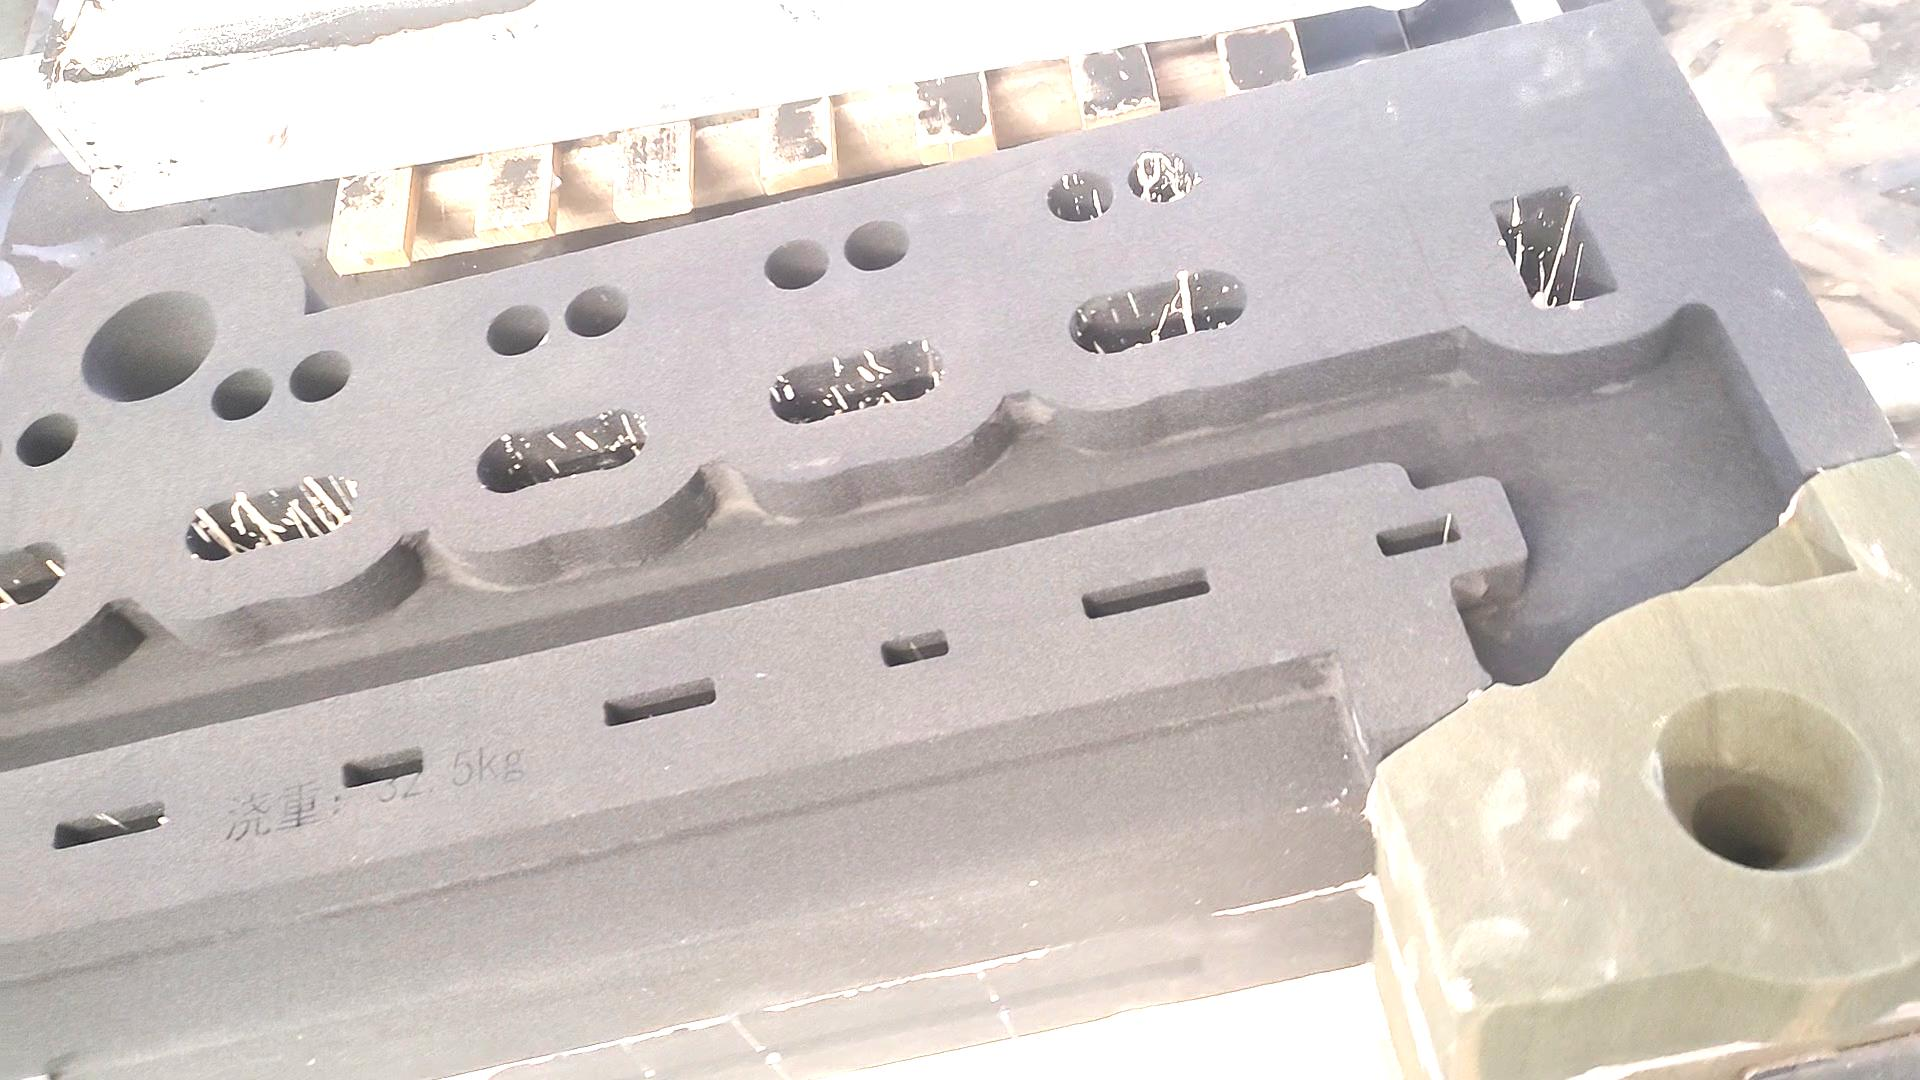pouring hole: (1656, 684, 1882, 874), (80, 289, 215, 401)
